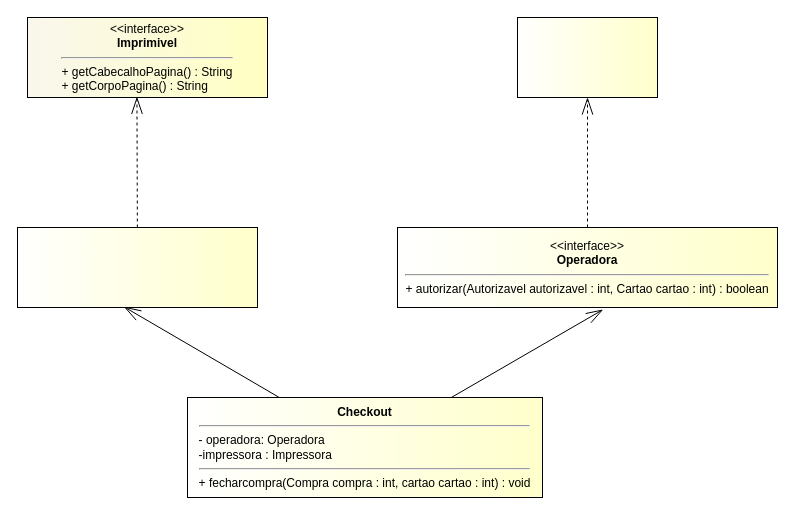
Image size: 795x515. Some labels were removed from this diagram. The centre of each missing label's shape, as x and y in pixels:
<<interface>> Autorizavel + getvalorTotal() : double: (x=587, y=57)
<<interface>> Impressora + imprimir(Imprimivel imprimivel : int) : void: (x=137, y=267)
